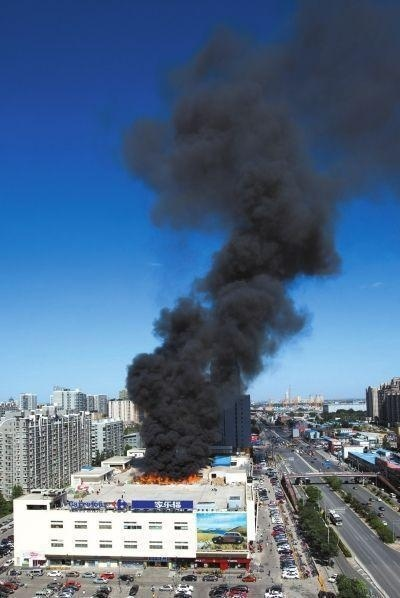fire: (136, 467, 202, 486)
